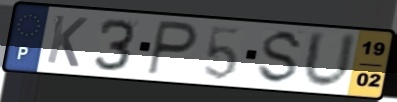3: (92, 17, 139, 73)
5: (201, 24, 243, 81)
K: (43, 13, 90, 70)
P: (144, 18, 201, 78)
S: (253, 28, 306, 87)
U: (300, 29, 359, 92)
